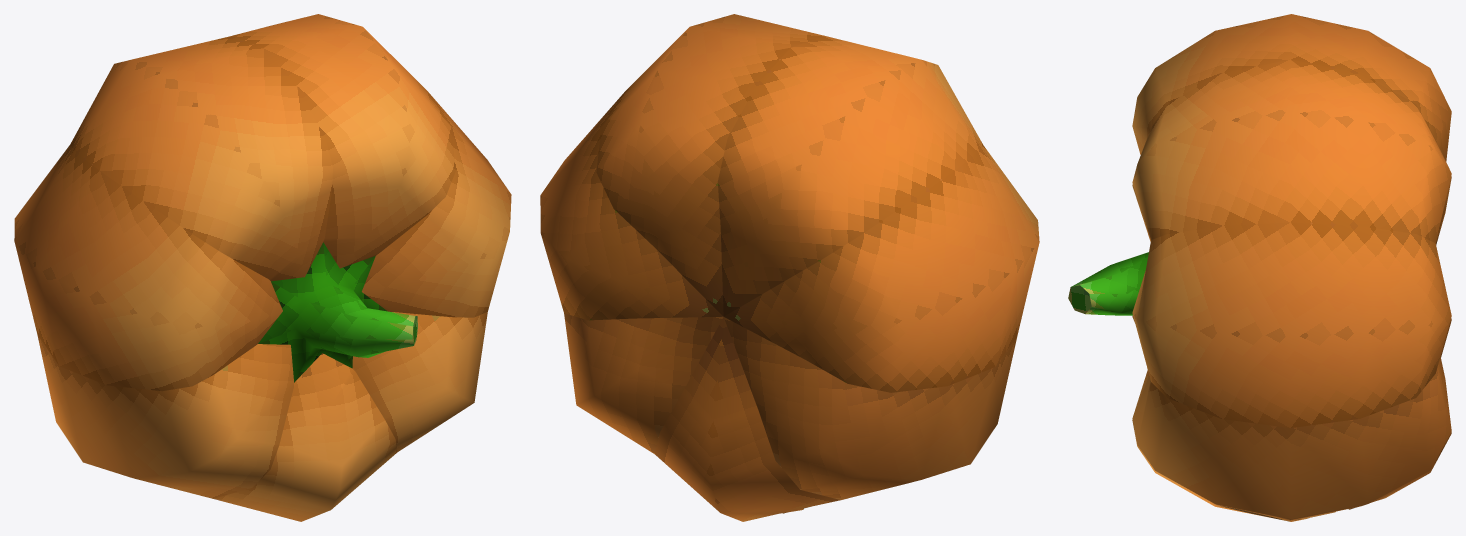
Rendered from jack_o_lantern.gltf.
3 views of the same model, side by side, from view 1: azimuth 30°, elevation 25°; view 2: azimuth 150°, elevation 25°; view 3: azimuth 270°, elevation 25° (orthographic).
Parts seen in each view (by area): view 1: SM_JackOLantern; view 2: SM_JackOLantern; view 3: SM_JackOLantern.
Boxes of the visible parts, <box> form: SM_JackOLantern: <box>14,14,511,521</box>; SM_JackOLantern: <box>540,14,1039,521</box>; SM_JackOLantern: <box>1068,14,1451,521</box>.
Size of the model in its own units: 260 by 256 by 192.
1 material, 1 textured.
